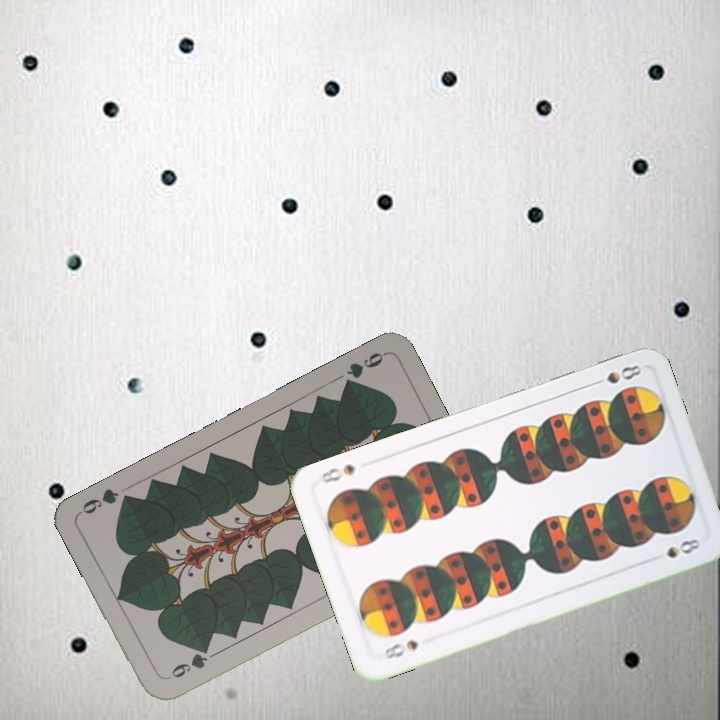G9: (339, 348, 388, 392), (162, 642, 212, 683)
S8: (586, 360, 645, 389), (379, 636, 421, 662)
